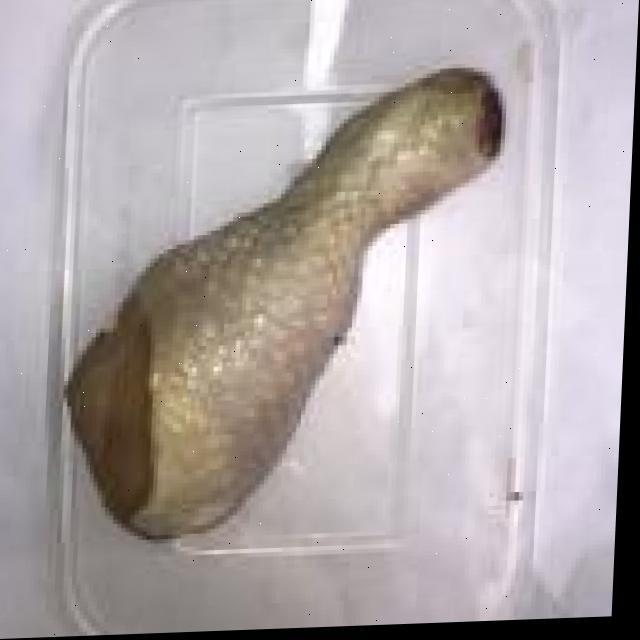leg: (68, 55, 514, 552)
